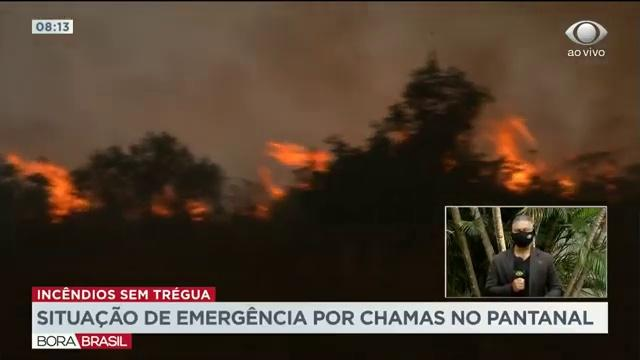fire: (498, 116, 535, 189), (266, 143, 327, 171), (52, 169, 78, 219)
